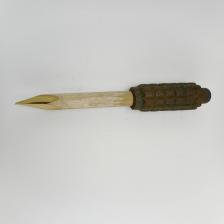POMZ2: (6, 72, 224, 135)
